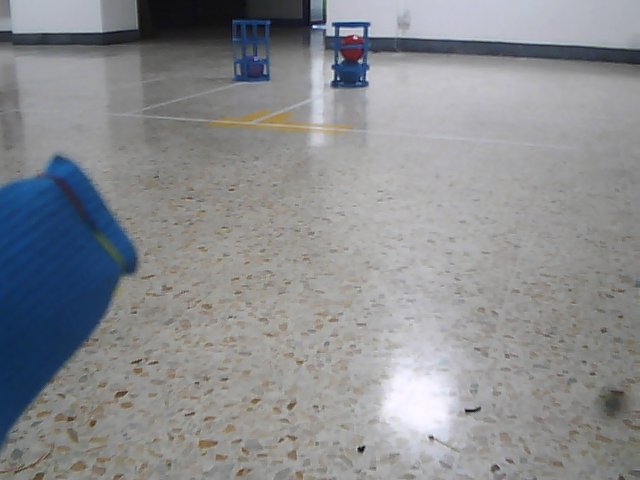Blue ball: (338, 60, 364, 86)
Cyro: (329, 20, 371, 90), (231, 18, 274, 83)
Purple ball: (243, 55, 265, 79)
Red ball: (340, 34, 365, 61)
